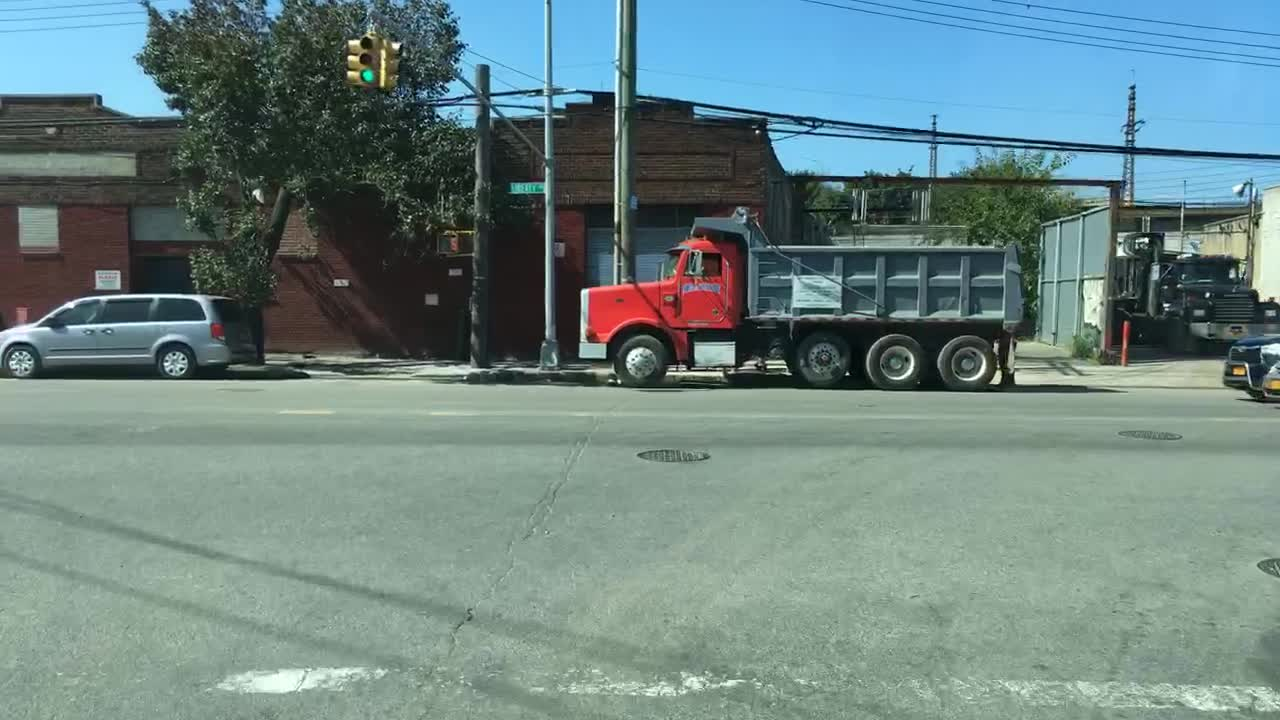car: (0, 289, 259, 375), (1221, 326, 1278, 404)
traffic light: (380, 40, 401, 95), (358, 35, 378, 86), (343, 35, 361, 88), (437, 232, 460, 255)
traffic sign: (509, 181, 543, 193)
truck: (573, 206, 1031, 393), (1118, 247, 1277, 355)
